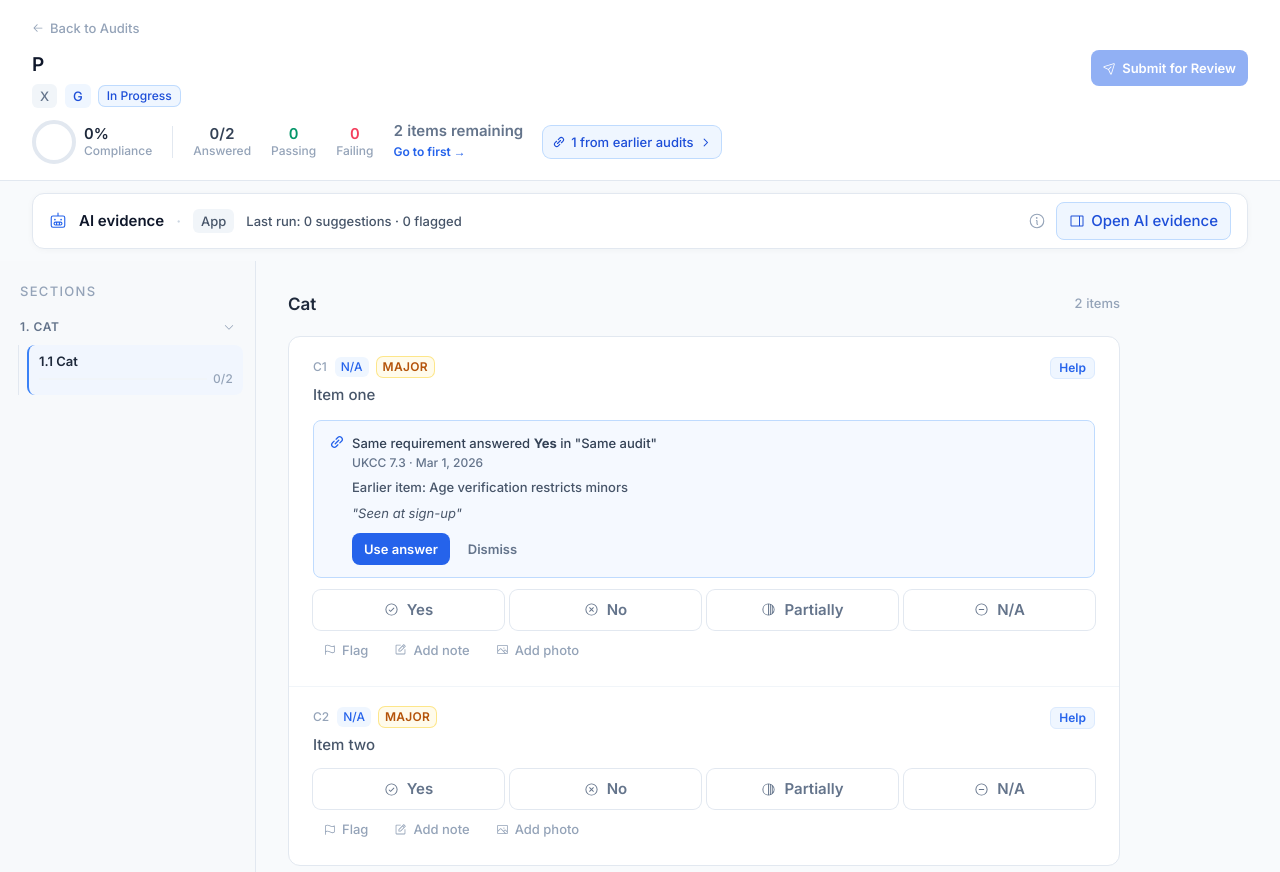
it: reusing an answer from earlier audits › does not refresh anything when nothing was reused
What coordinates should you click on to do the following:
click the button "Use answer"
I would click on:
 (401, 549)
Its box is [352,533,450,565].
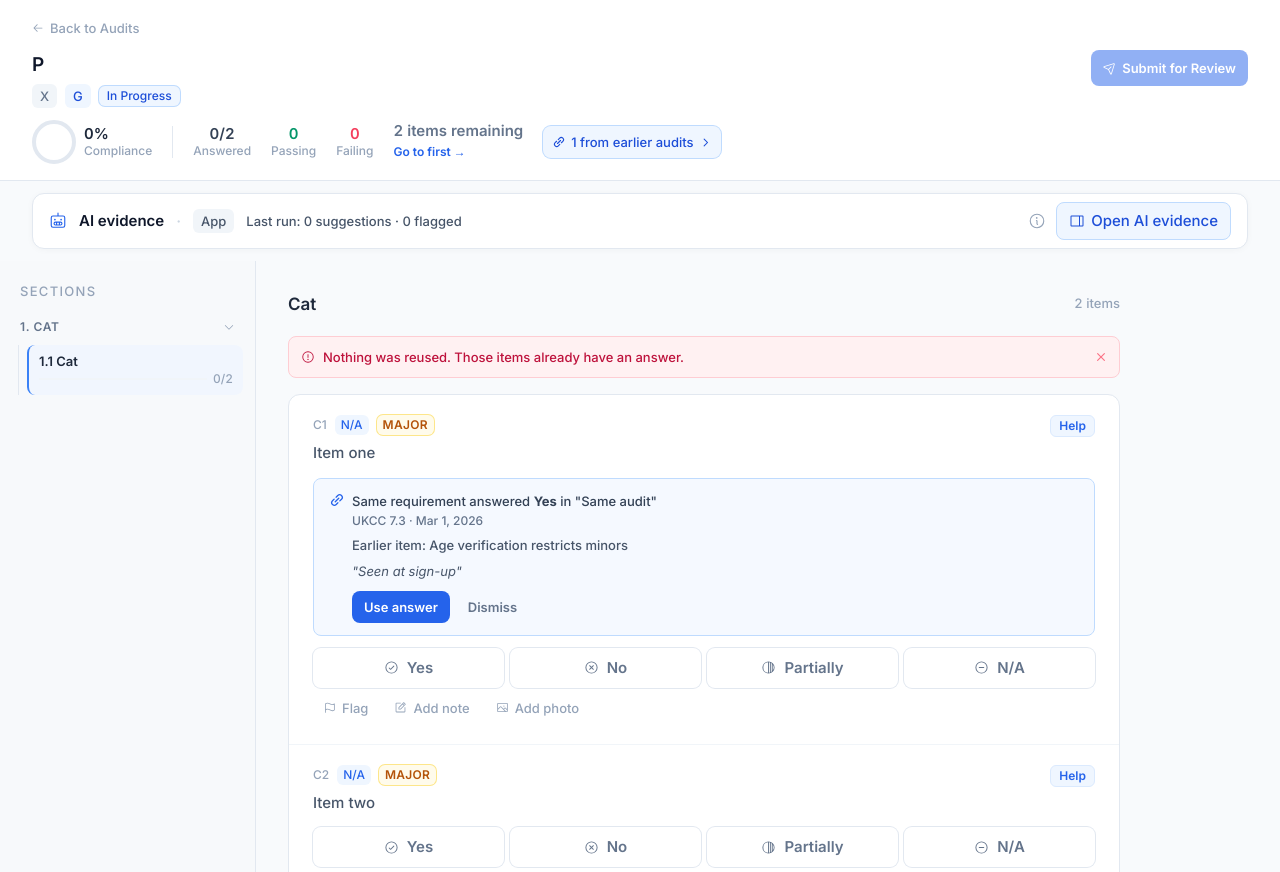
Expected: the text "Nothing was reused. Those items already have an answer." is shown, [323,347,684,367]
